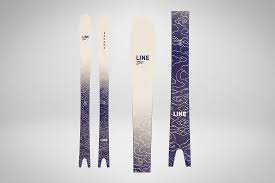skis: (128, 9, 193, 173), (74, 14, 115, 169)
